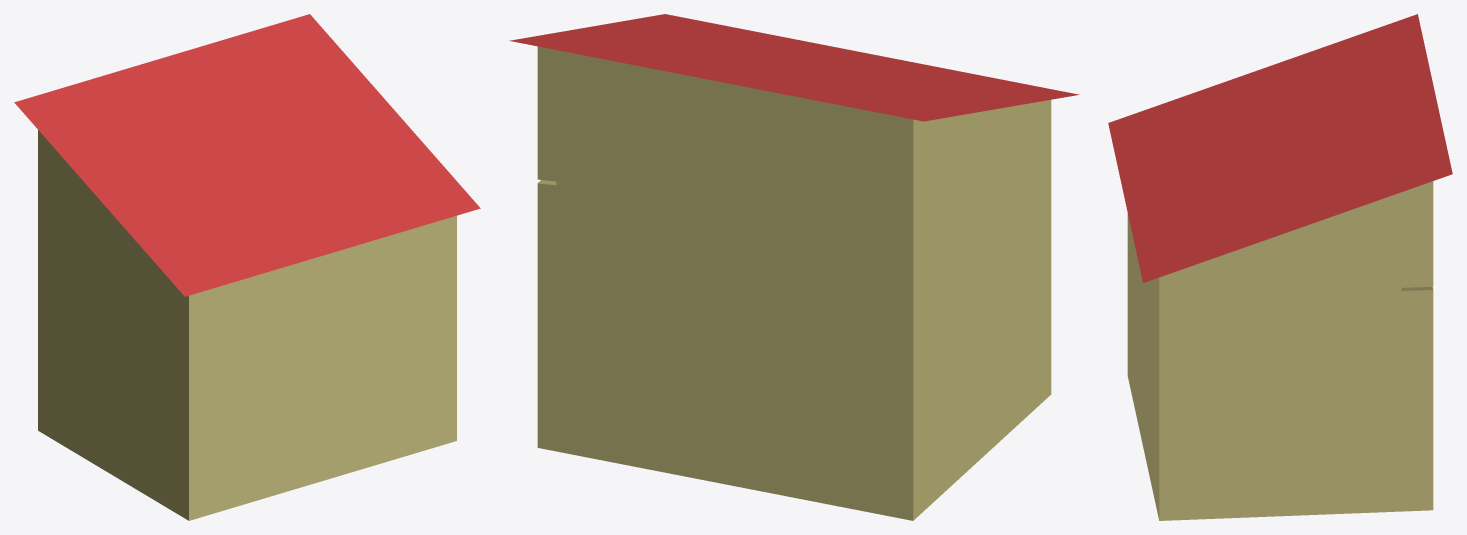
3 views of the same model, side by side, from view 1: azimuth 30°, elevation 25°; view 2: azimuth 150°, elevation 25°; view 3: azimuth 270°, elevation 25° (orthographic). The views are drawn at different scales.
Bounding box in the file's own units: 11.38 × 9.62 × 10.56.
